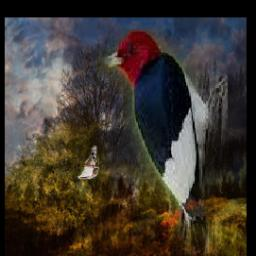Cuckoo: (77, 146, 98, 180)
Woodpecker: (95, 29, 227, 256)
